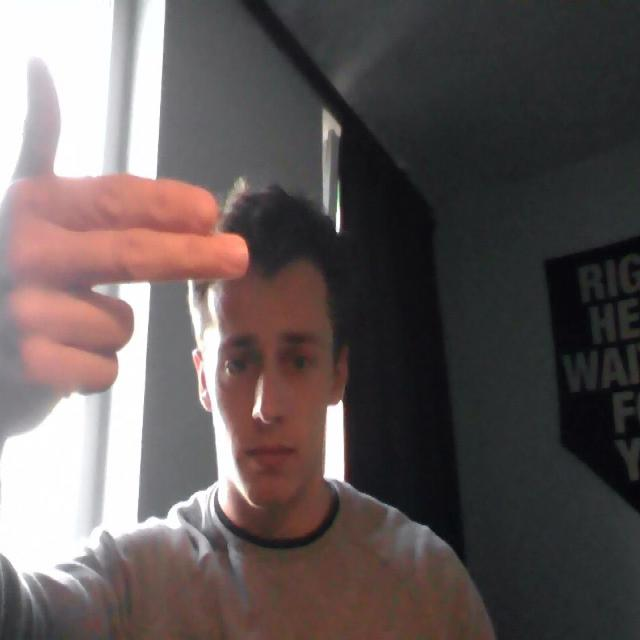right: (5, 32, 253, 440)
